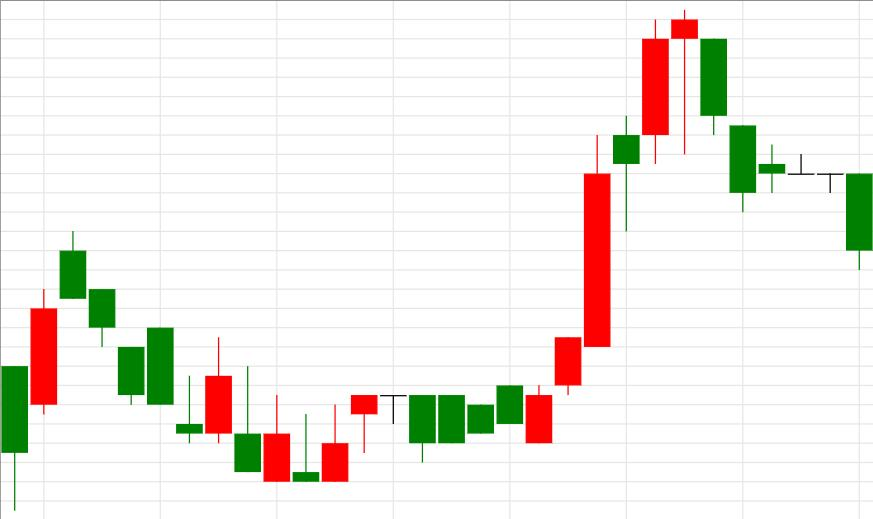evening_star_fall: (525, 10, 726, 443)
